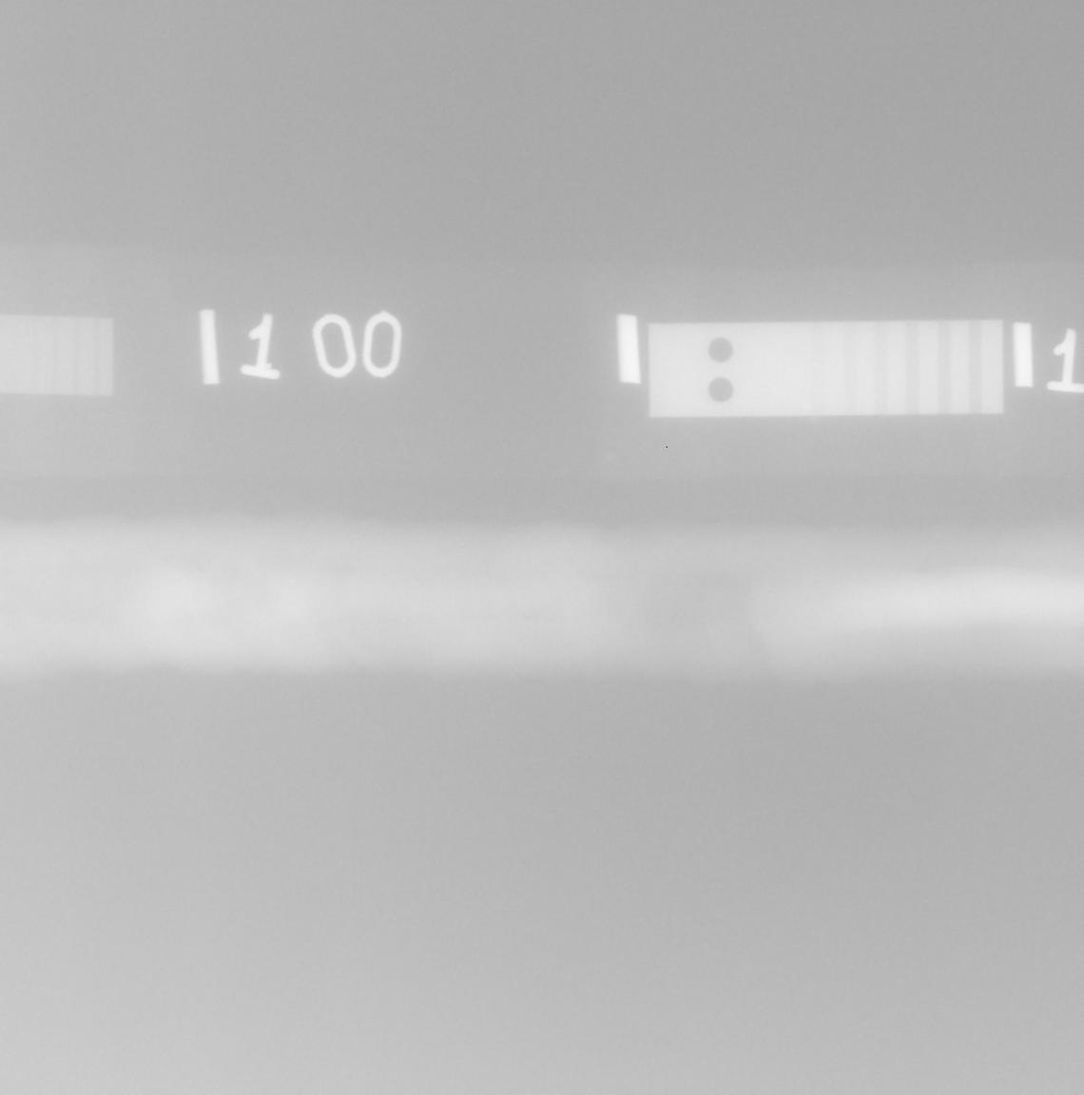Reference Standard 2: (648, 318, 1005, 419)
